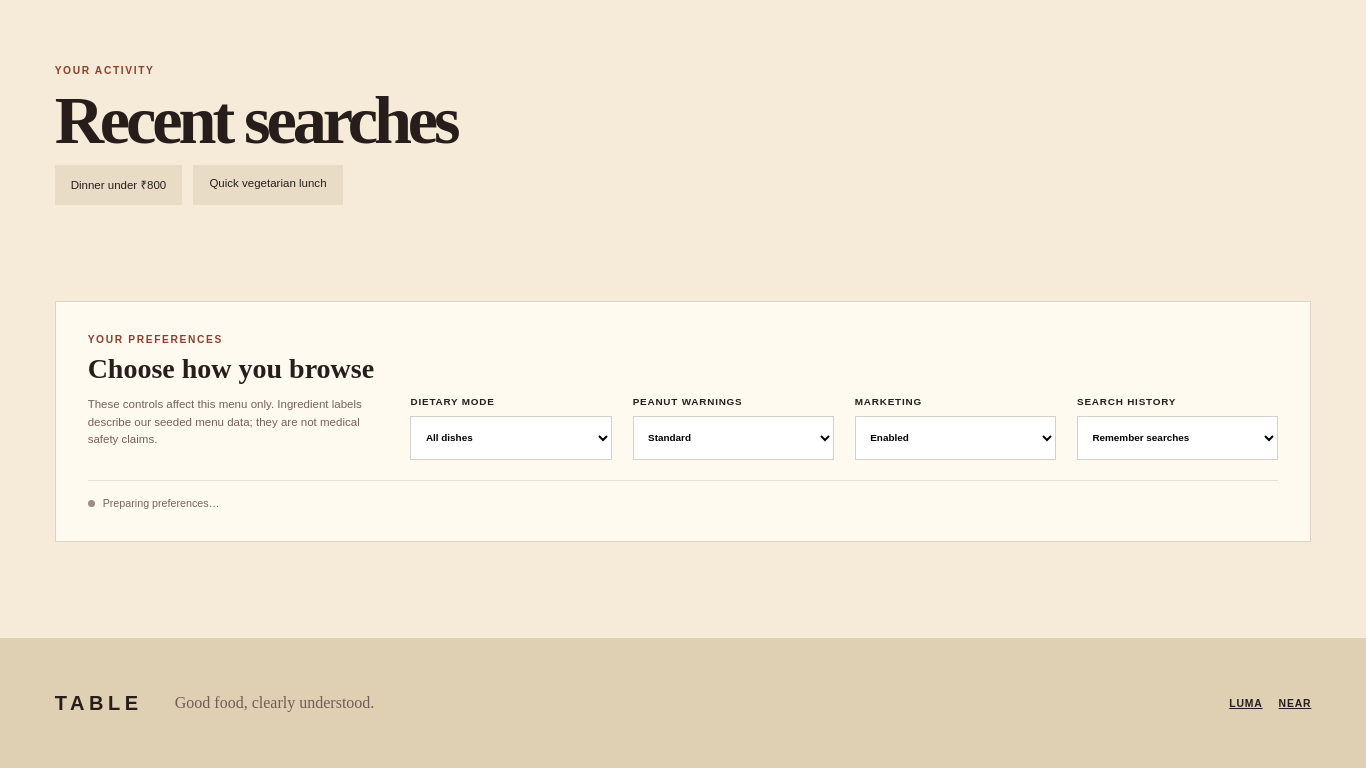
Scenario: Table human experience › vegetarian mode removes non-vegetarian dishes and updates the count
(page scrolled)
Select "Vegetarian" in the dropdown labelled "Dietary mode": point(511, 438) [410,416,612,460]
(page scrolled)
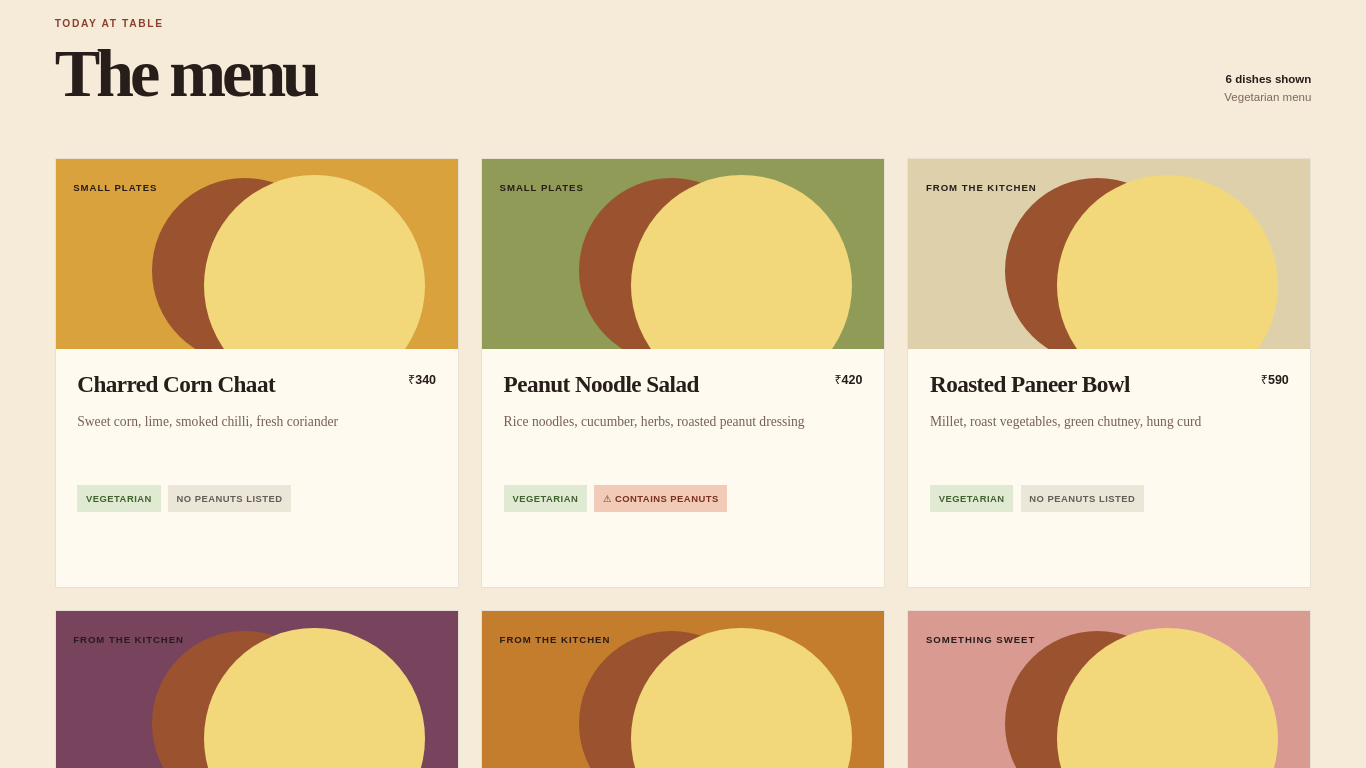
Expected: the heading "Peanut Noodle Salad" is shown, [504,371,699,398]
Result: the text "6 dishes shown" is shown at [1224,70,1311,88]
